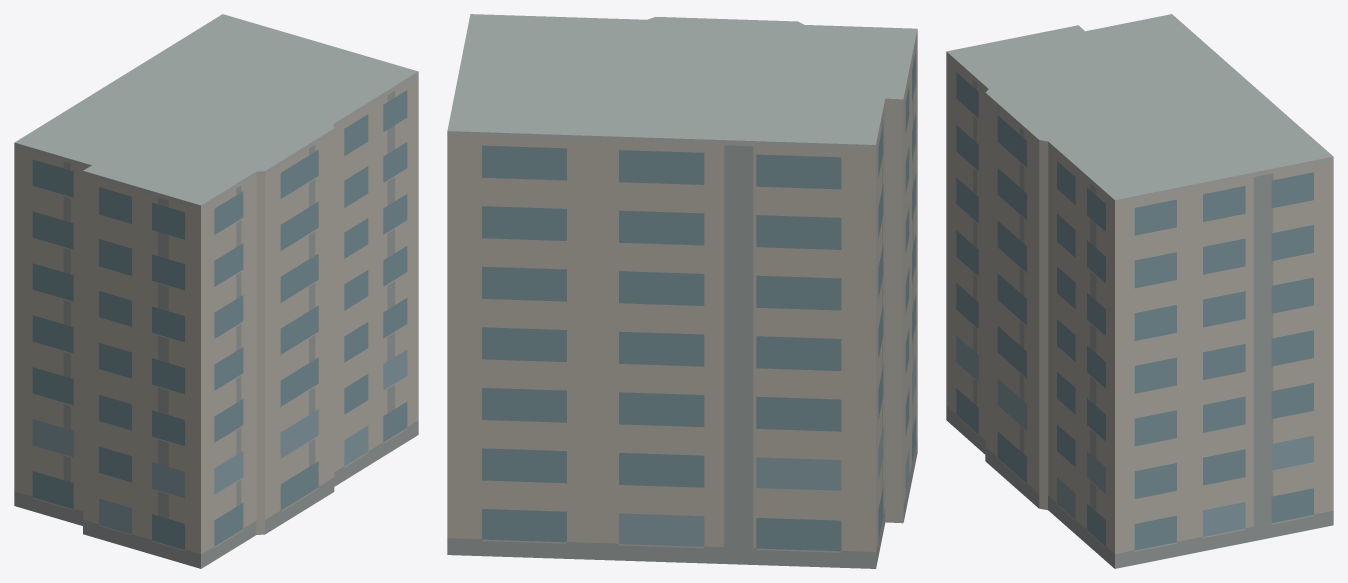
The model's file is survey-upis-32833626.glb.
3 renders of one model, left to right at view 1: azimuth 30°, elevation 25°; view 2: azimuth 150°, elevation 25°; view 3: azimuth 270°, elevation 25°, orthographic. The views are drawn at different scales.
Visible parts, largest first — view 1: survey-upis-32833626.tmp; view 2: survey-upis-32833626.tmp; view 3: survey-upis-32833626.tmp.
Boxes of the visible parts, left/top/right/bottom form: survey-upis-32833626.tmp: left=14, top=14, right=418, bottom=568; survey-upis-32833626.tmp: left=447, top=14, right=917, bottom=568; survey-upis-32833626.tmp: left=946, top=14, right=1333, bottom=568.
Size of the model in its own units: 21.06 by 19.45 by 18.52.
